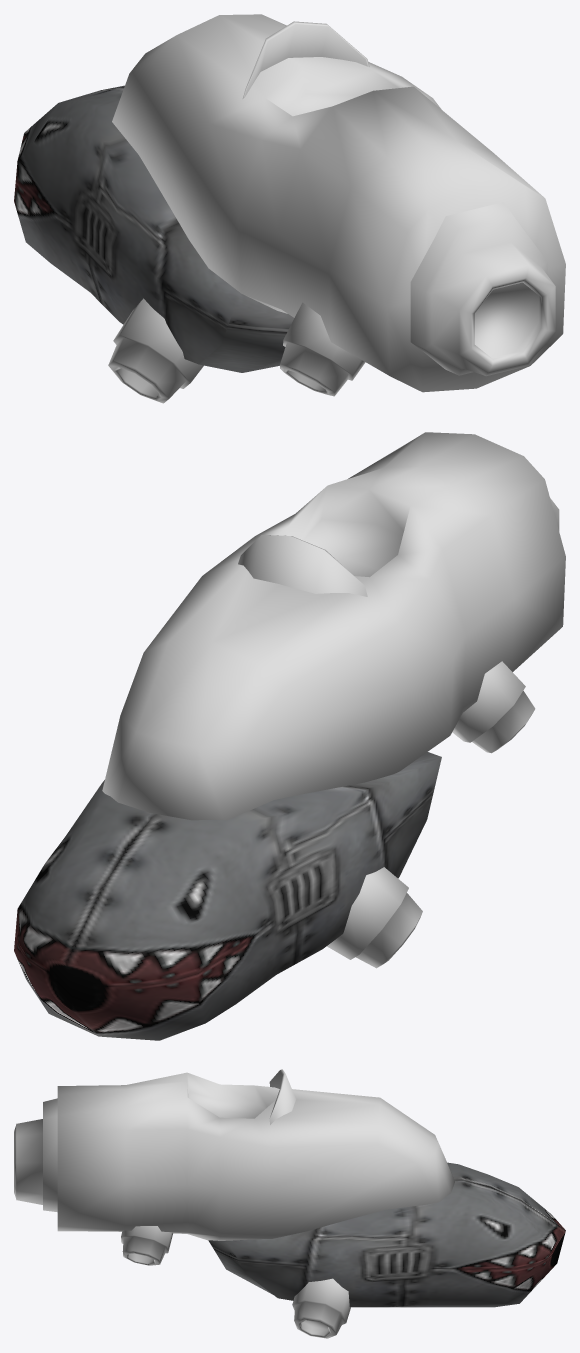
Rendered from Boat.fbx.
3 views of the same model, one above another, from view 1: azimuth 30°, elevation 25°; view 2: azimuth 150°, elevation 25°; view 3: azimuth 270°, elevation 25° (orthographic). The views are drawn at different scales.
Visible parts, largest first — view 1: BoatTop, BoatBot, JetForward, JetUpLower, JetUpHigher, Glass; view 2: BoatTop, BoatBot, JetUpLower, Glass, JetUpHigher; view 3: BoatTop, BoatBot, JetForward, JetUpLower, JetUpHigher, Glass.
Part boxes in pixels (x1,y1,x2,y2): BoatTop: [112, 14, 565, 392]; BoatBot: [14, 85, 294, 372]; JetForward: [410, 202, 555, 376]; JetUpLower: [108, 298, 203, 403]; JetUpHigher: [280, 302, 365, 396]; Glass: [242, 21, 369, 98]; BoatTop: [102, 432, 565, 820]; BoatBot: [14, 752, 441, 1040]; JetUpLower: [327, 867, 422, 968]; Glass: [238, 535, 367, 596]; JetUpHigher: [452, 661, 535, 753]; BoatTop: [57, 1072, 454, 1240]; BoatBot: [208, 1162, 565, 1307]; JetForward: [14, 1098, 57, 1212]; JetUpLower: [292, 1278, 350, 1338]; JetUpHigher: [121, 1226, 173, 1265]; Glass: [269, 1069, 295, 1124].
Bounding box in the file's own units: 2.71 × 3.25 × 7.02.
